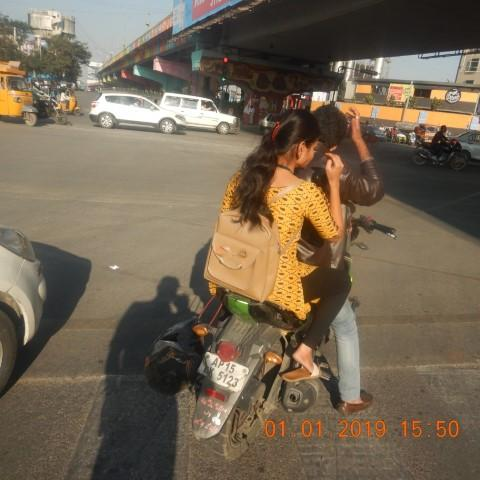plate: (201, 353, 245, 393)
